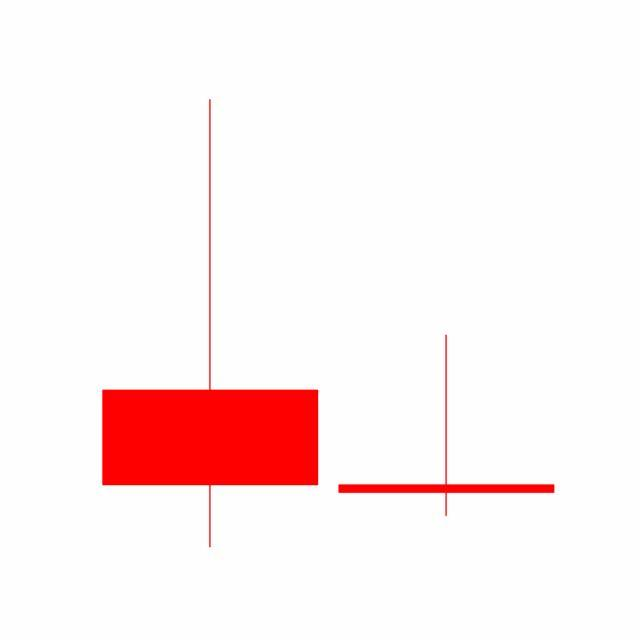Spinning Top: (328, 334, 566, 519)
